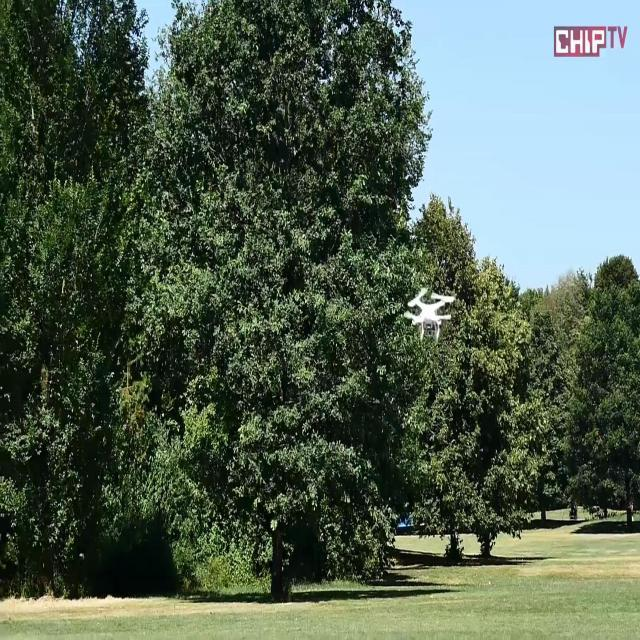drone: (401, 284, 456, 339)
